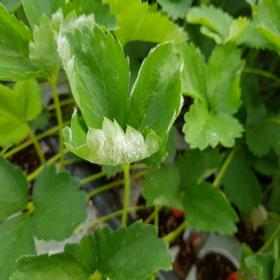Powdery Mildew Leaf: (52, 13, 132, 134), (126, 41, 184, 169), (61, 108, 163, 166), (181, 99, 245, 152)
